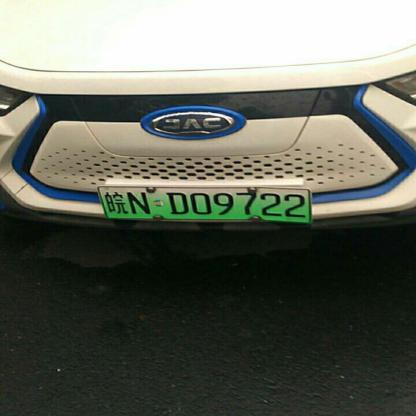lp: (97, 185, 310, 223)
